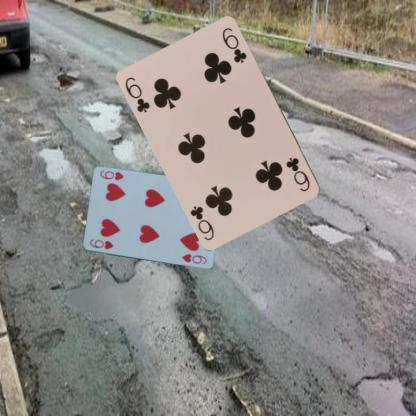6c: (122, 74, 152, 115), (283, 155, 312, 193)
6h: (88, 236, 115, 251)
